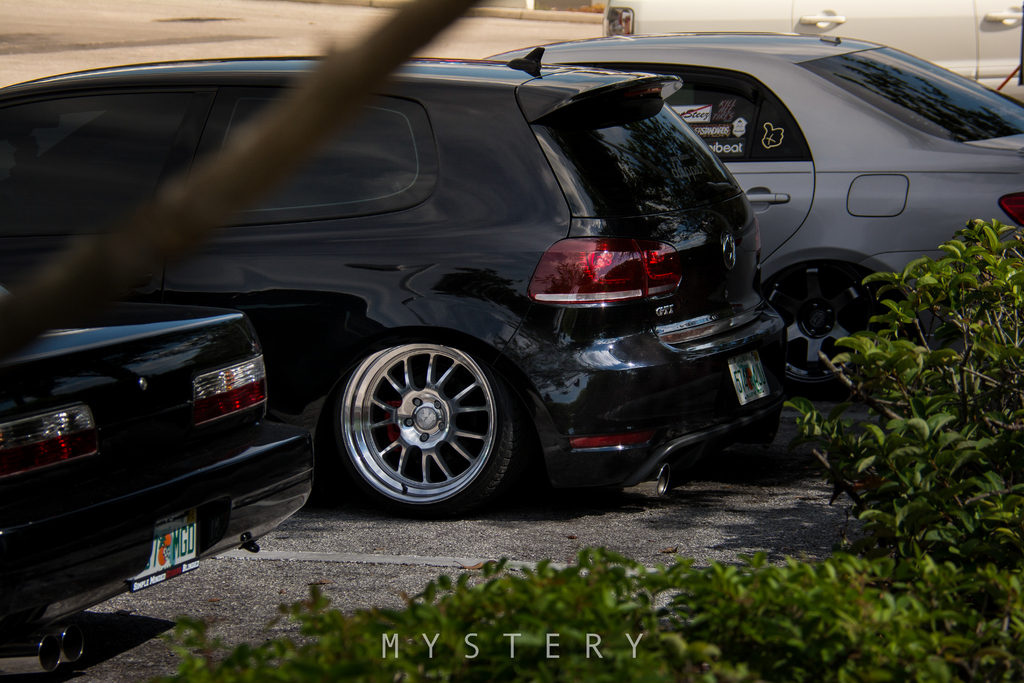Car: (0, 47, 787, 517), (484, 33, 1024, 401), (0, 282, 315, 673)
